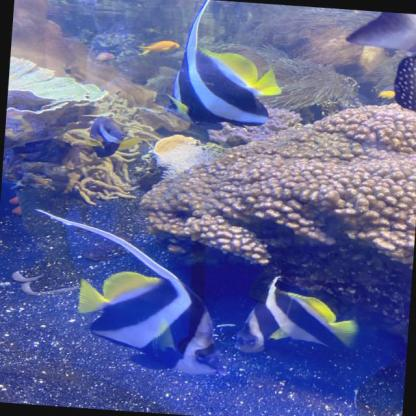fish: (74, 268, 233, 378), (163, 46, 284, 134), (235, 288, 360, 360), (340, 9, 415, 124), (78, 114, 141, 160), (135, 39, 181, 58), (94, 51, 116, 63), (378, 89, 394, 99)
